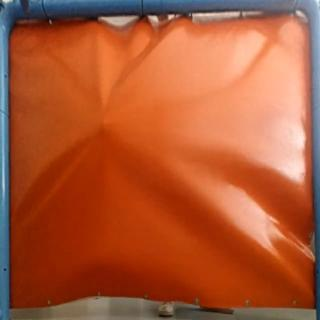Hit-hRxx: (93, 115, 115, 132)
